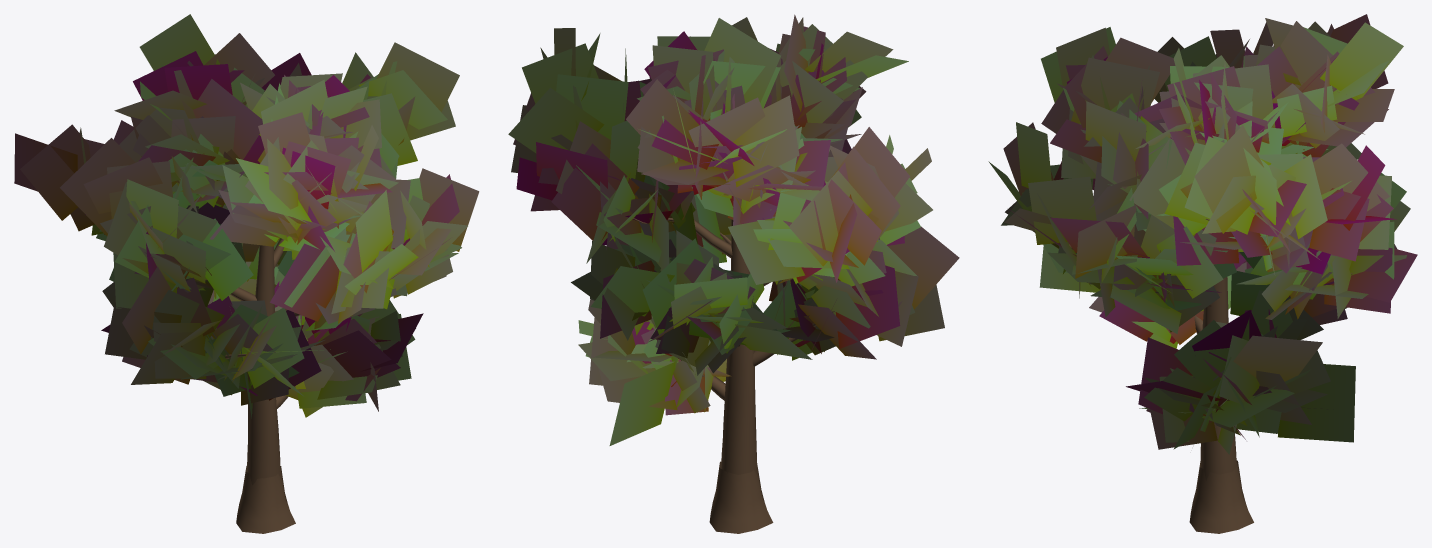
The model's file is tree_oak_1.glb.
3 views of the same model, side by side, from view 1: azimuth 30°, elevation 25°; view 2: azimuth 150°, elevation 25°; view 3: azimuth 270°, elevation 25° (orthographic). The views are drawn at different scales.
Parts seen in each view (by area): view 1: Leaves, Trunk; view 2: Leaves, Trunk; view 3: Leaves, Trunk.
Part boxes in pixels (x1,y1,x2,y2): Leaves: [14, 14, 479, 418]; Trunk: [190, 236, 299, 533]; Leaves: [508, 14, 959, 445]; Trunk: [633, 128, 816, 533]; Leaves: [988, 14, 1417, 454]; Trunk: [1069, 218, 1352, 533].
Bounding box in the file's own units: 7.03 × 8.23 × 6.48.
